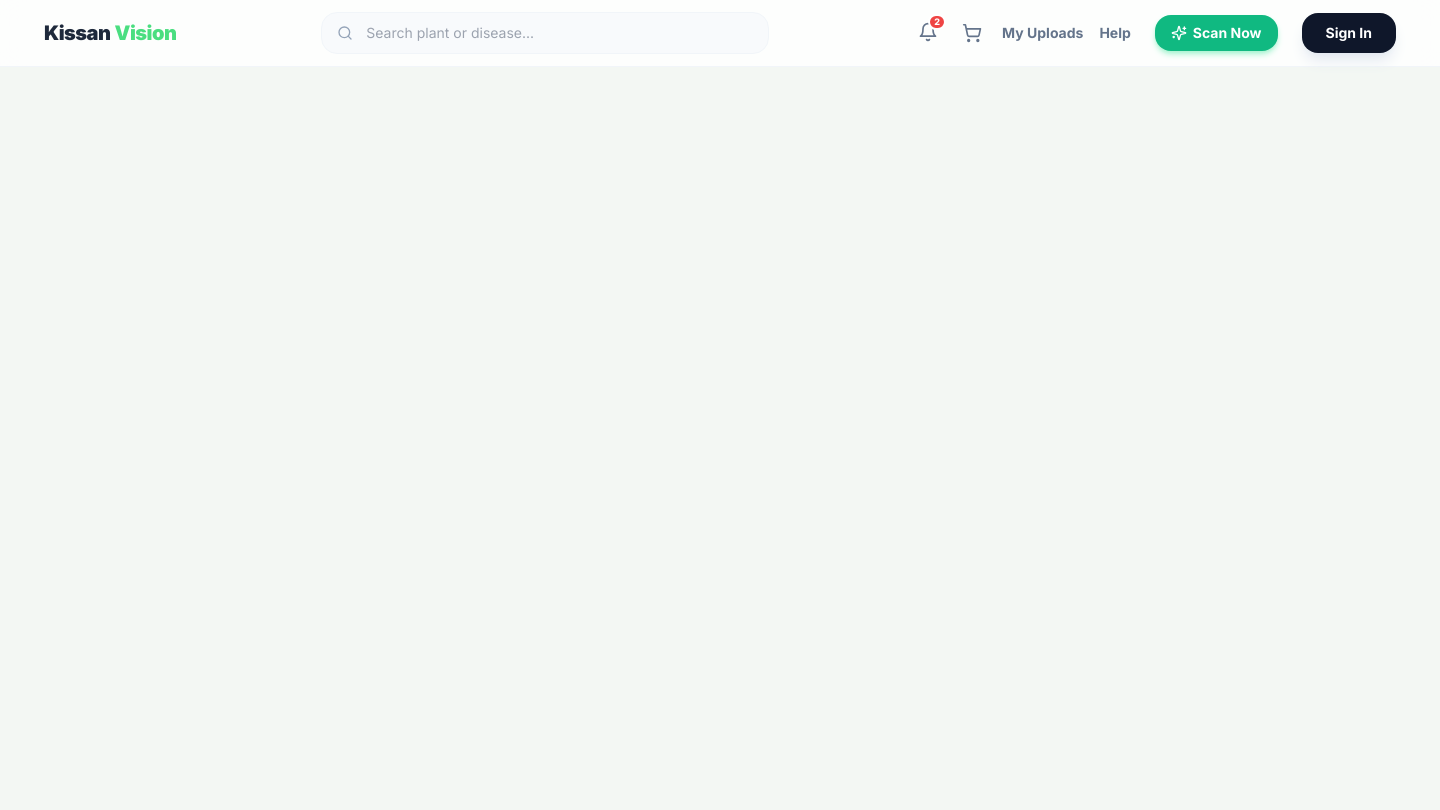
Test: notification UI › routes from a notification click to the exact scan detail page without runtime errors
Click the button named "Notifications" at (928, 32), box [914,18,942,46]
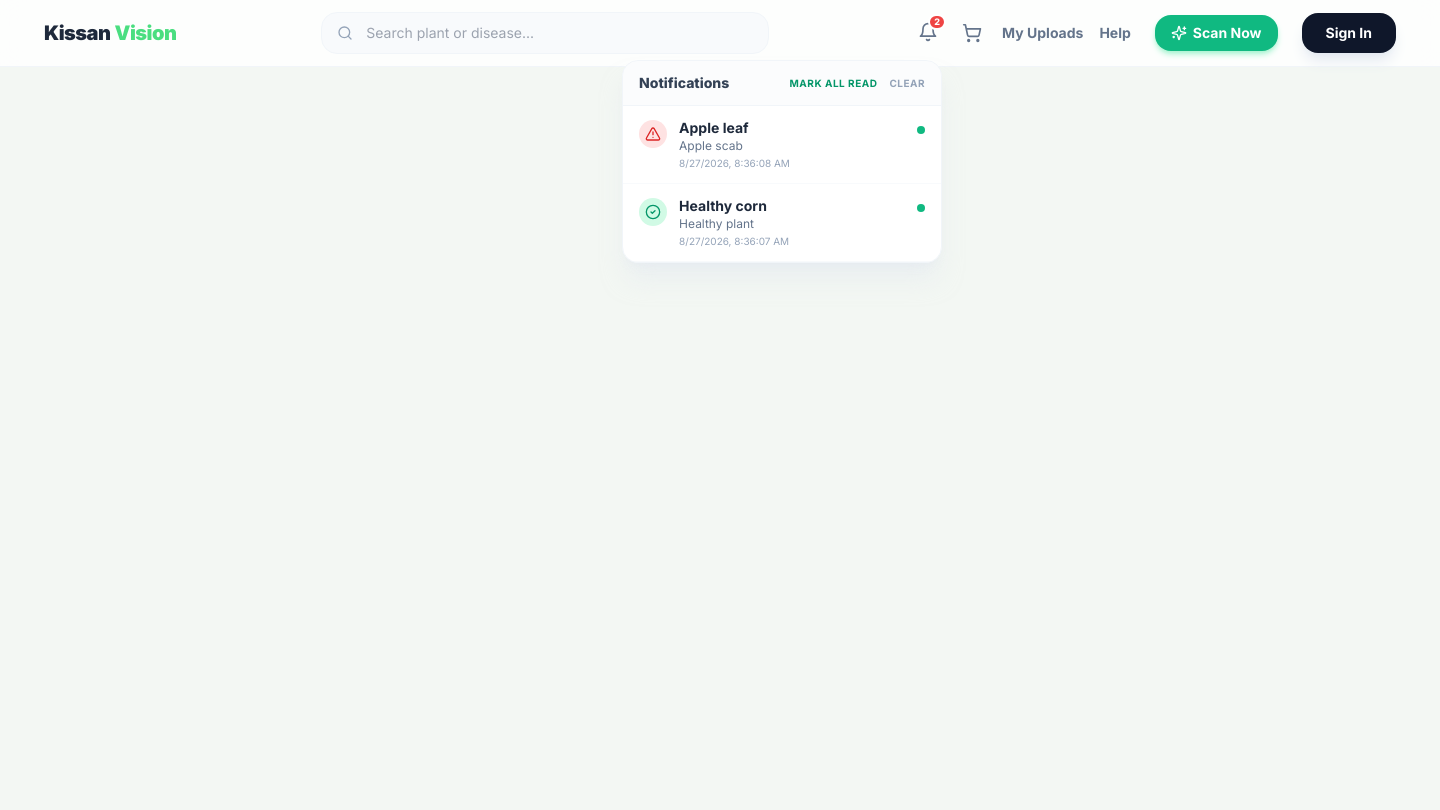
Click the button with test id "notification-item-notif-1" at (714, 128), box [623,106,941,184]
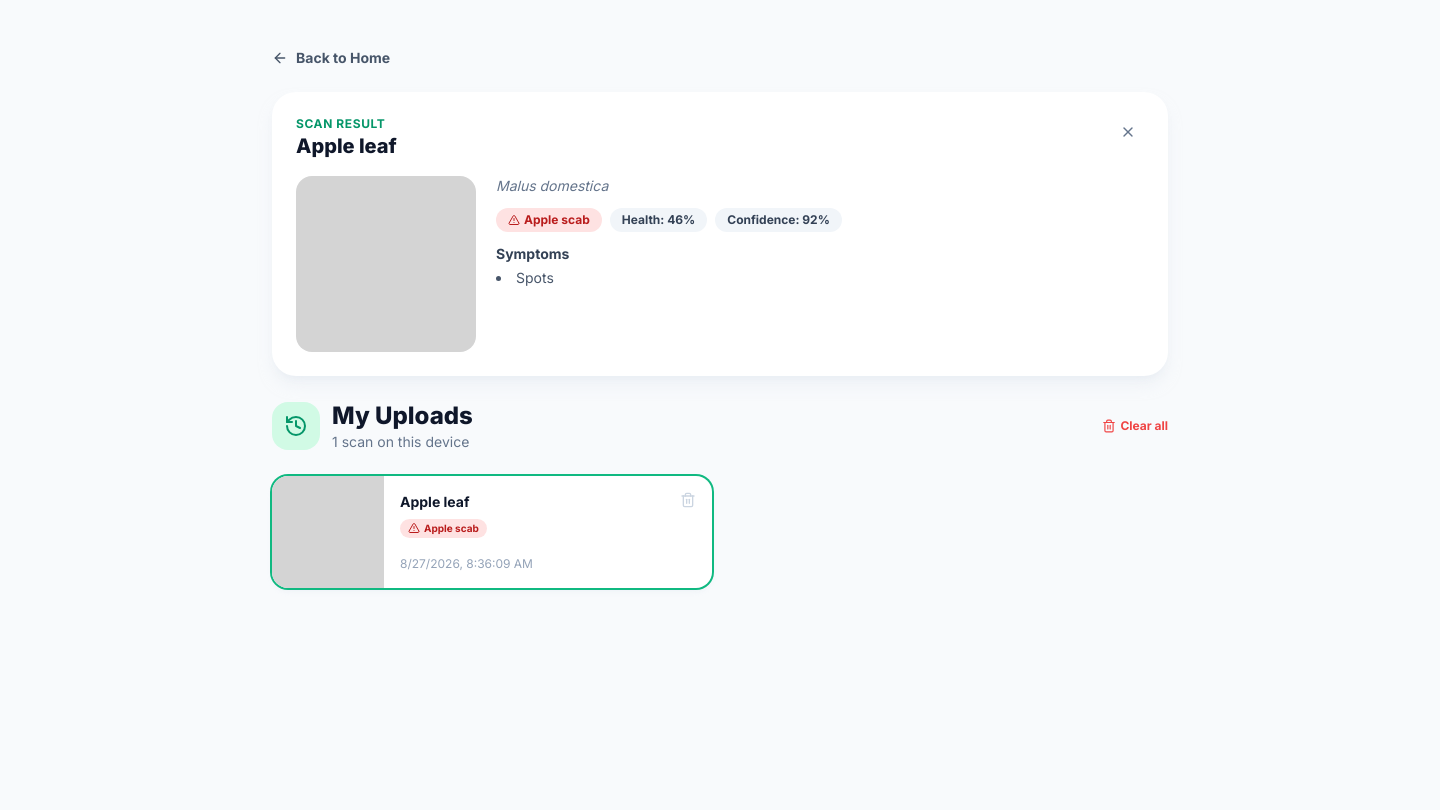
Now the heading with test id "scan-result-plant-name" reads "Apple leaf", box [296,134,397,158]
